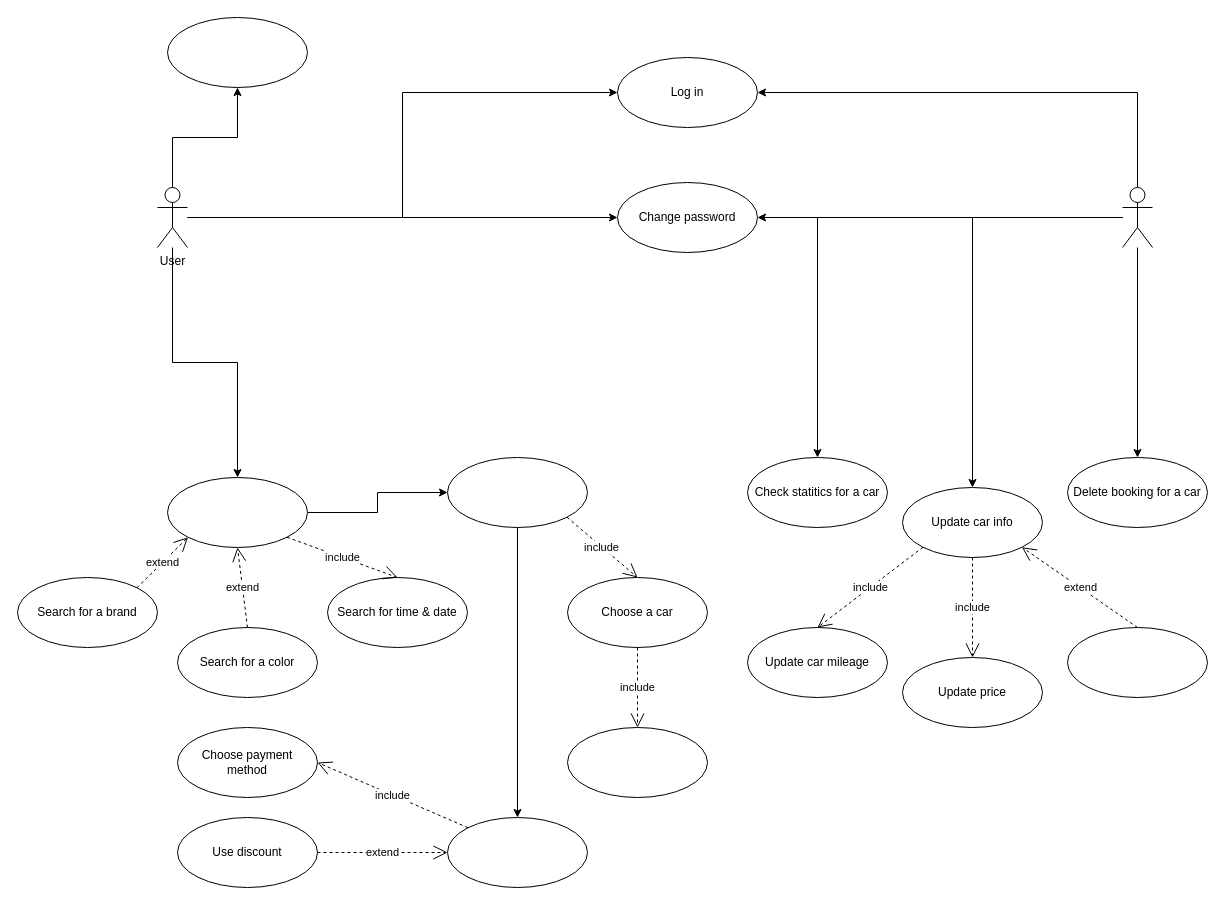
The diagram is 1225 pixels wide and 905 high, and some of its shapes have lost their labels. The centre of each missing label's shape, as x and y in pixels:
"Admin" goes at pixel 1137 217.
"Book a car" goes at pixel 517 492.
"Choose time & date" goes at pixel 637 762.
"Make a payment" goes at pixel 517 852.
"Search for a car" goes at pixel 237 512.
"Sign Up" goes at pixel 237 52.
"Update car accident" goes at pixel 1137 662.
